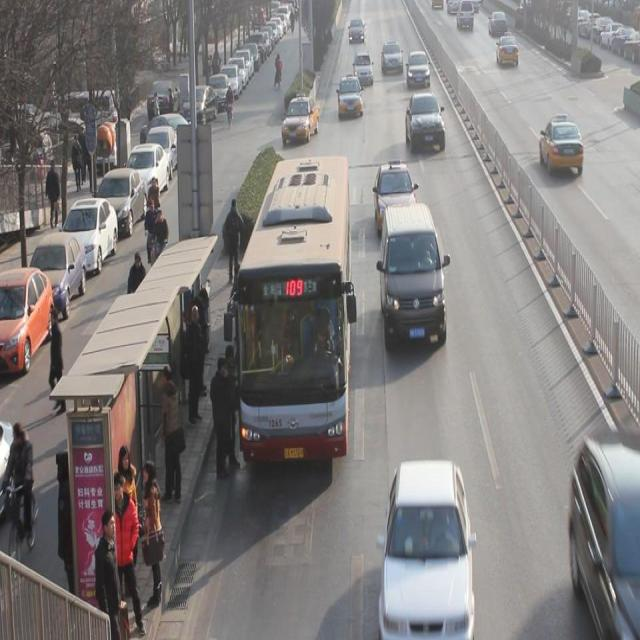car: (381, 457, 474, 640), (569, 434, 640, 628), (374, 159, 417, 232), (540, 114, 584, 175), (405, 91, 446, 154), (282, 94, 320, 145), (338, 74, 363, 119), (406, 49, 431, 88), (497, 31, 519, 67), (353, 51, 374, 86), (383, 41, 403, 74)
truck: (380, 203, 447, 346)
van: (235, 156, 349, 454)
